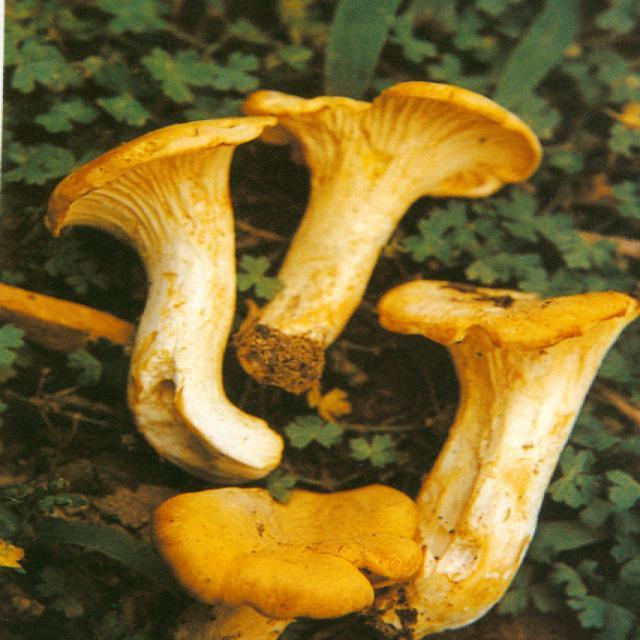Cantharellus cibarius: (384, 279, 637, 631), (256, 85, 533, 398), (52, 116, 281, 475), (153, 482, 421, 640)
